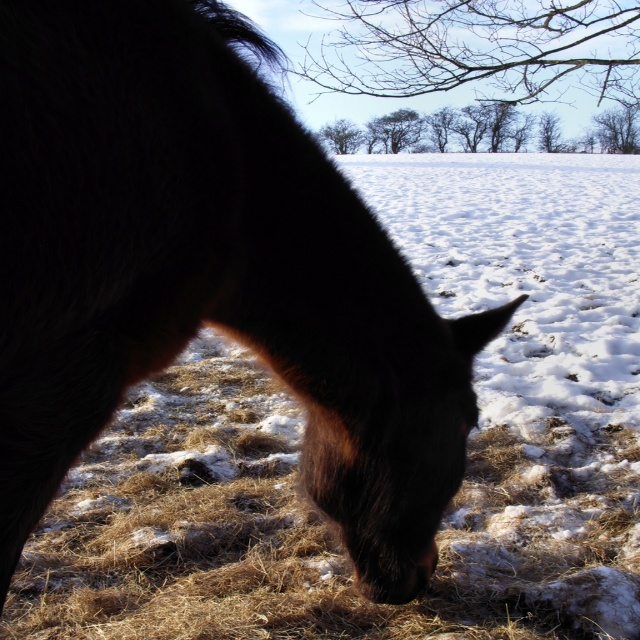Horse: (0, 0, 530, 611)
